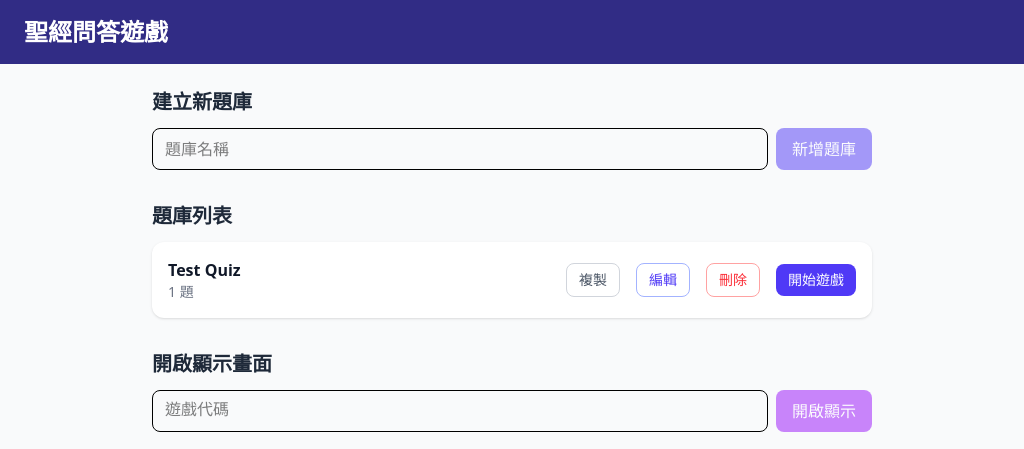
Test: HomePage › confirming delete removes quiz from list
Expected: the heading "Test Quiz" is shown, [168,259,241,281]
Click the button with aria-label "刪除題庫" at (733, 280), box [706,263,760,297]
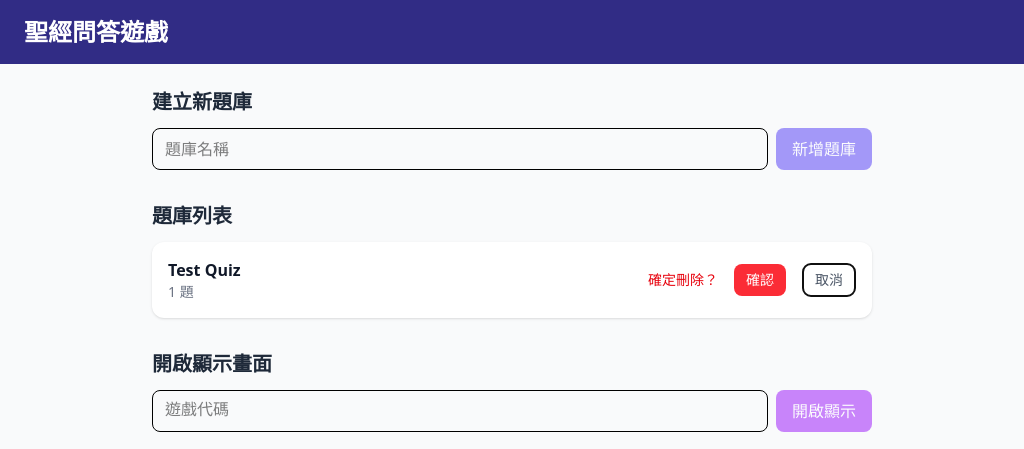
Click the button with aria-label "確認刪除" at (760, 280), box [734,264,786,296]
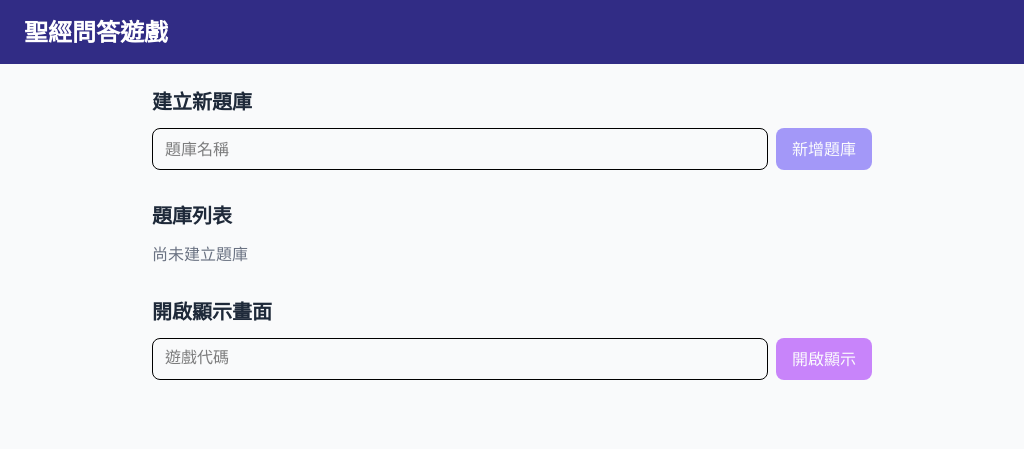
Expected: the heading "Test Quiz" is gone
